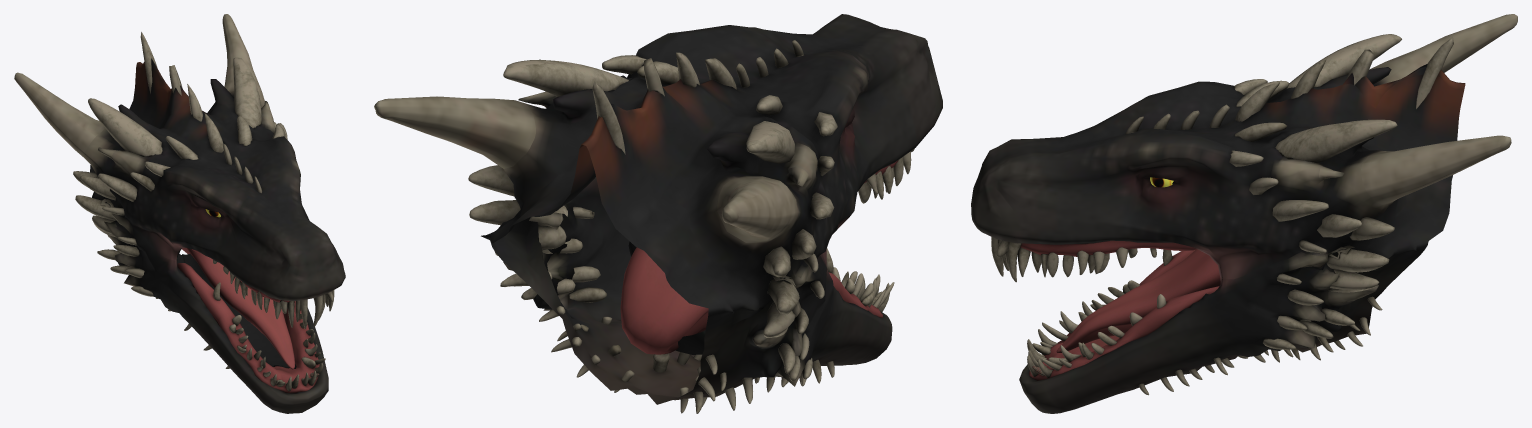
Rendered from dragon_000014.obj.
3 views of the same model, side by side, from view 1: azimuth 30°, elevation 25°; view 2: azimuth 150°, elevation 25°; view 3: azimuth 270°, elevation 25° (orthographic). The views are drawn at different scales.
Parts seen in each view (by area): view 1: Dragon_Untitled; view 2: Dragon_Untitled; view 3: Dragon_Untitled.
Boxes of the visible parts, bbox=[...] form: Dragon_Untitled: bbox=[14, 14, 345, 413]; Dragon_Untitled: bbox=[374, 14, 942, 413]; Dragon_Untitled: bbox=[971, 14, 1517, 413].
Size of the model in its own units: 2.72 by 3.32 by 4.45.
